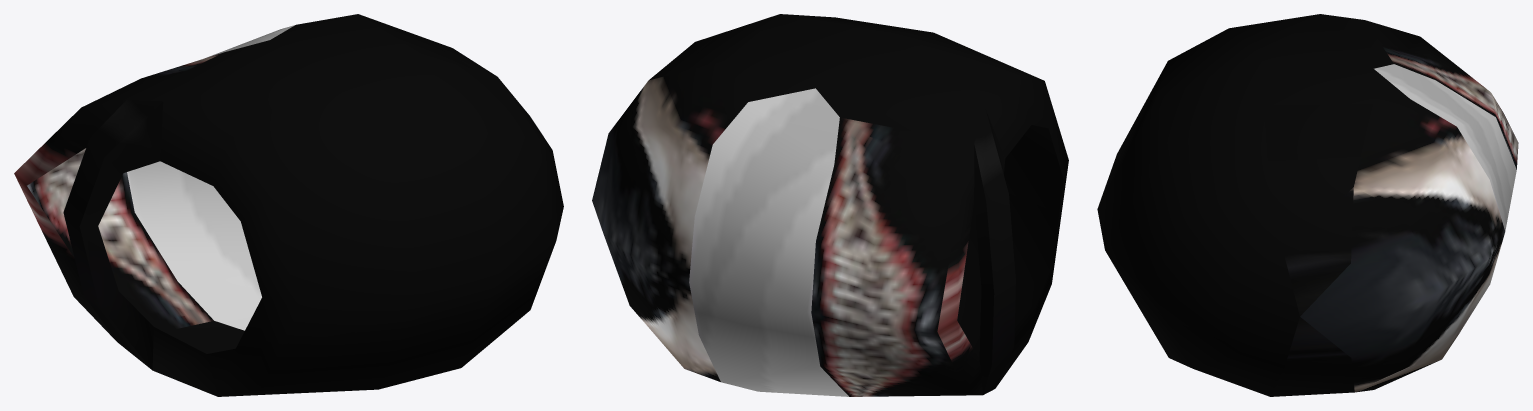
File: CrashHelmetFullVenom.fbx
3 views of the same model, side by side, from view 1: azimuth 30°, elevation 25°; view 2: azimuth 150°, elevation 25°; view 3: azimuth 270°, elevation 25° (orthographic). The views are drawn at different scales.
Parts seen in each view (by area): view 1: M_CrashHelmetFULL.019; view 2: M_CrashHelmetFULL.019; view 3: M_CrashHelmetFULL.019.
Boxes of the visible parts, <box> form: M_CrashHelmetFULL.019: <box>14,14,563,396</box>; M_CrashHelmetFULL.019: <box>592,14,1068,396</box>; M_CrashHelmetFULL.019: <box>1097,14,1518,396</box>.
Bounding box in the file's own units: 0.1953 × 0.144 × 0.1836.
